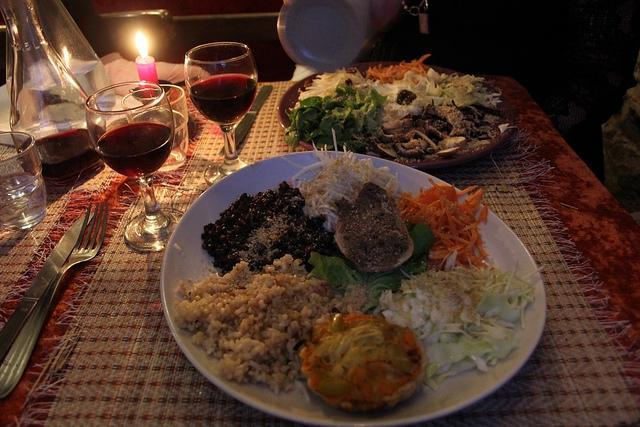carrot: (418, 190, 440, 206), (446, 210, 456, 244), (456, 184, 478, 196), (469, 188, 483, 205), (448, 242, 468, 252), (428, 178, 442, 191), (437, 207, 446, 227), (458, 222, 478, 231), (425, 210, 439, 222), (456, 212, 472, 222), (430, 216, 438, 235), (429, 248, 450, 255), (387, 66, 395, 84), (482, 202, 488, 224), (419, 54, 431, 64), (388, 67, 402, 74), (438, 189, 446, 197), (378, 64, 384, 74), (443, 216, 449, 226), (405, 65, 412, 71), (456, 216, 464, 220), (458, 224, 463, 230), (395, 66, 399, 69), (446, 232, 450, 235)
